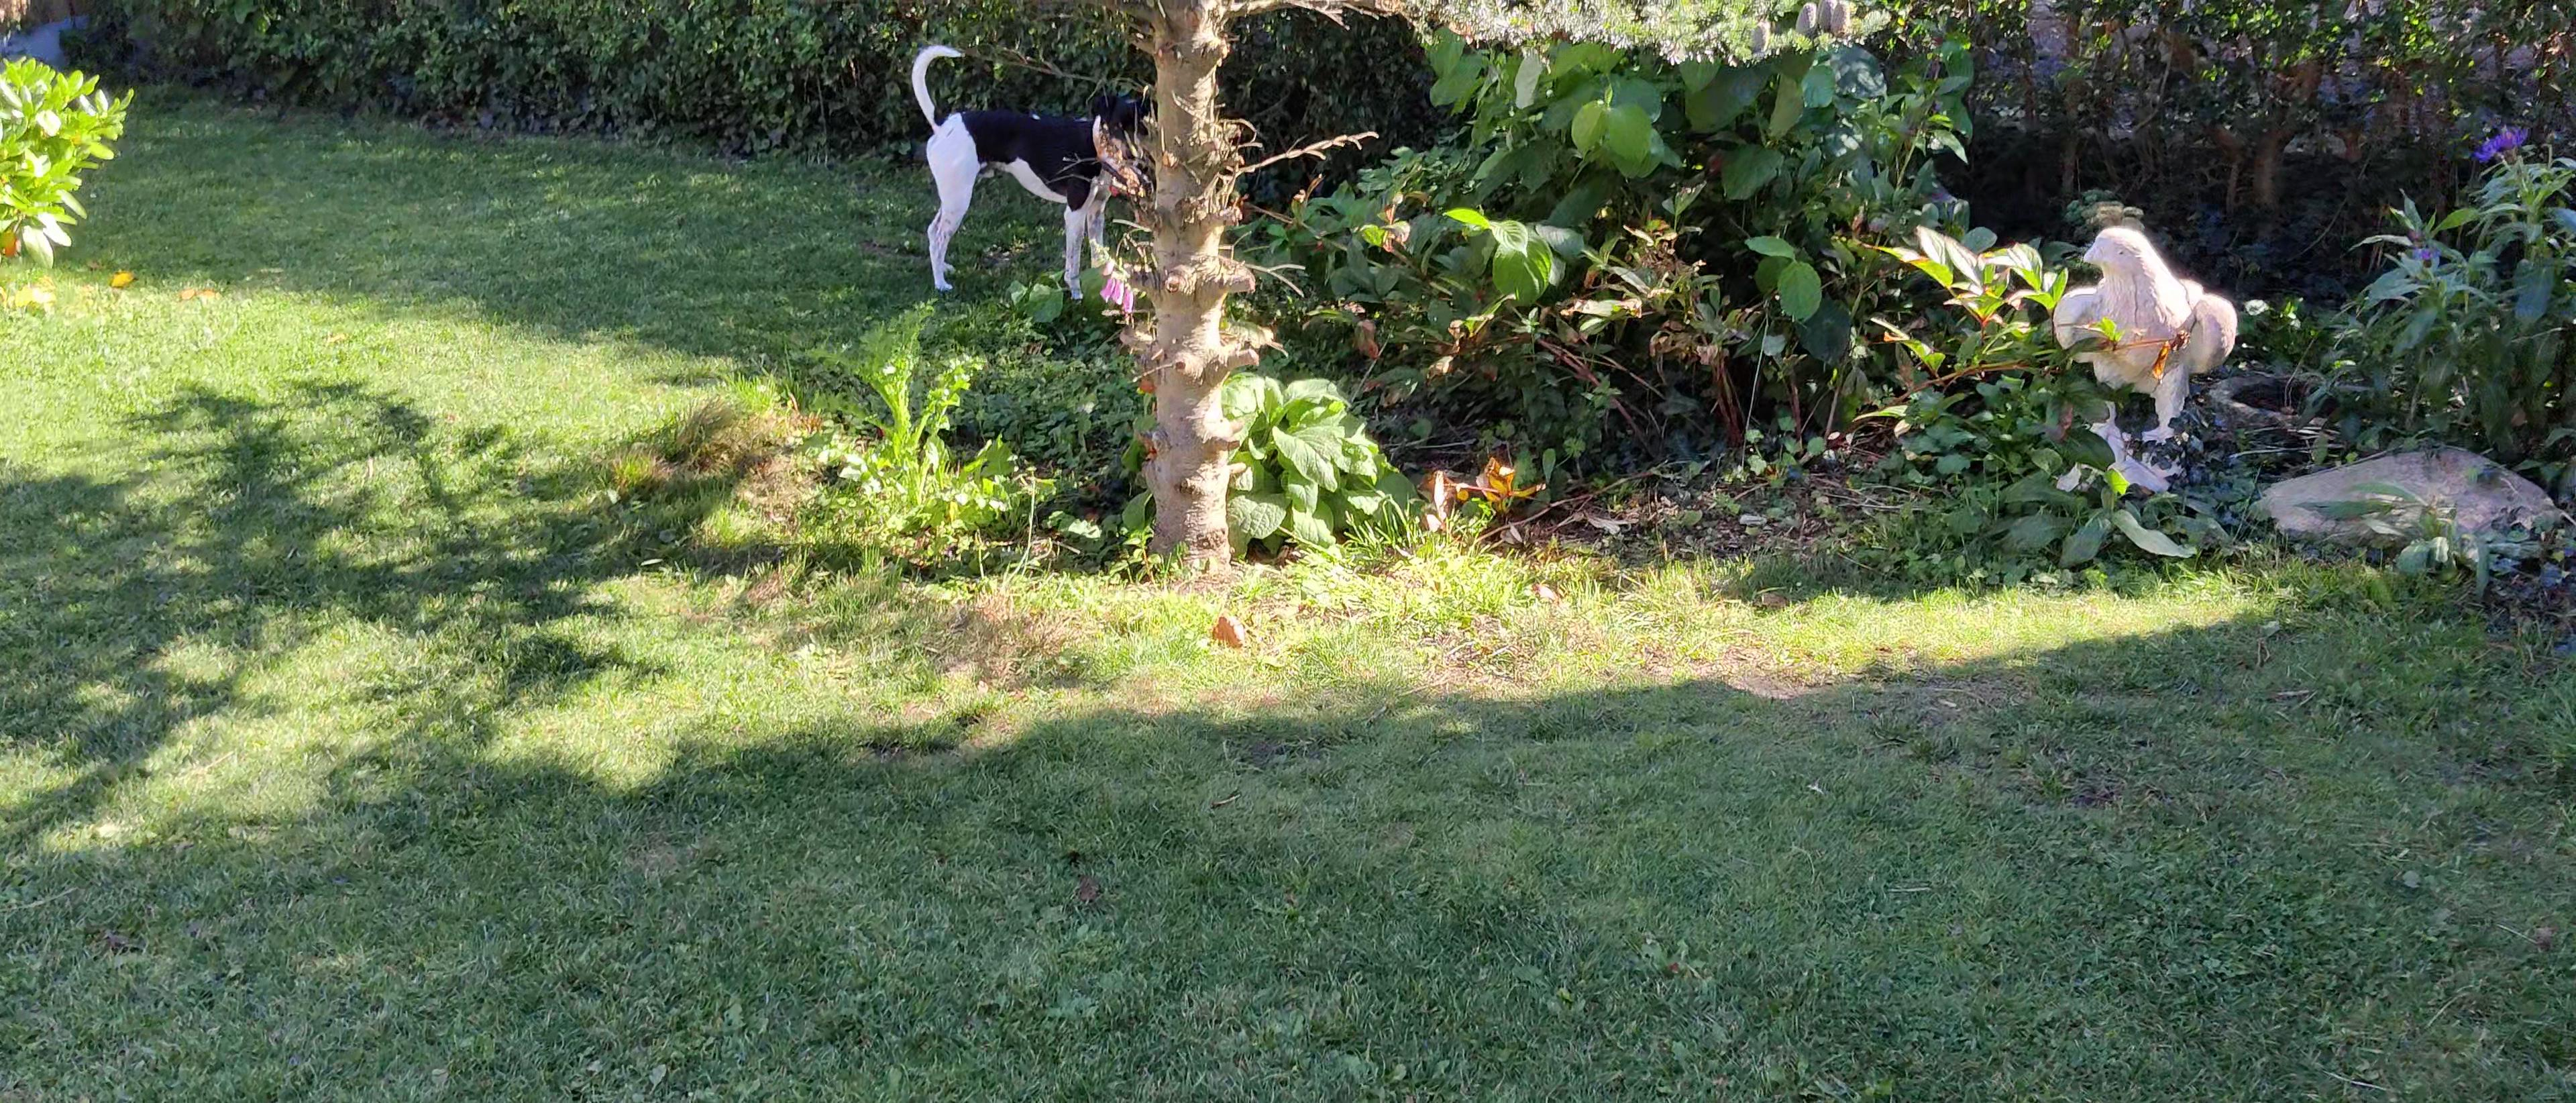Dog: (905, 33, 1161, 309)
